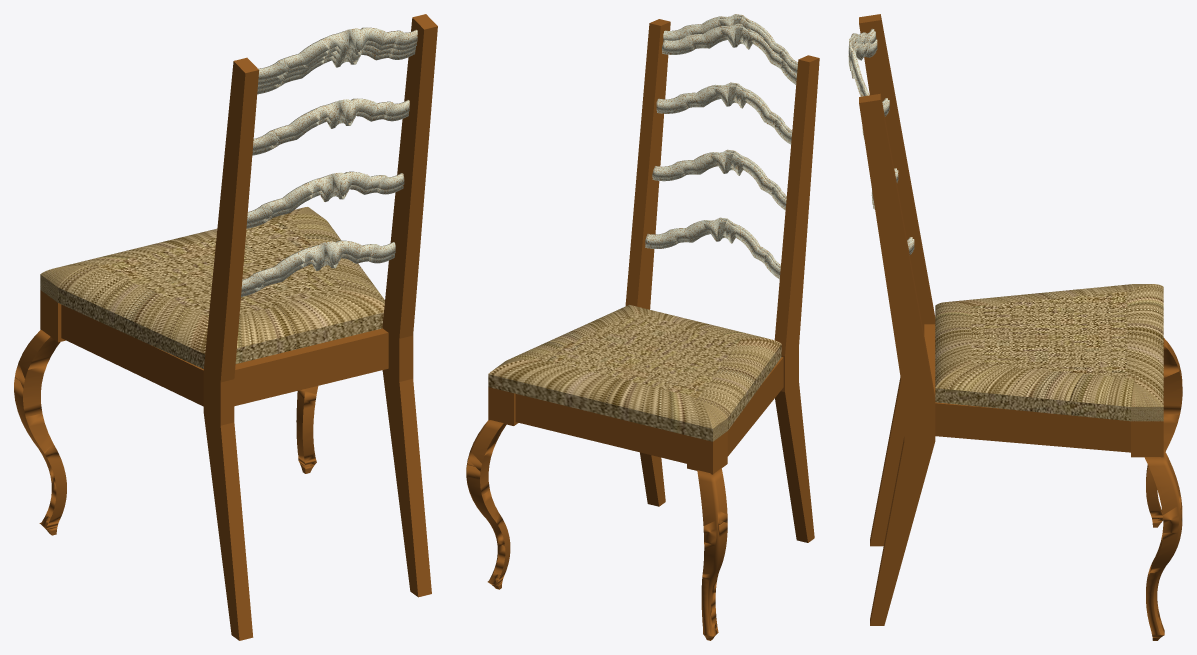
3 renders of one model, left to right at view 1: azimuth 30°, elevation 25°; view 2: azimuth 150°, elevation 25°; view 3: azimuth 270°, elevation 25°, orthographic. The views are drawn at different scales.
Parts seen in each view (by area): view 1: mesh13_mesh13-geometry, mesh1_mesh1-geometry, mesh12_mesh12-geometry, mesh9_mesh9-geometry, mesh7_mesh7-geometry, mesh5_mesh5-geometry, mesh3_mesh3-geometry, mesh11_mesh11-geometry, mesh4_mesh4-geometry, mesh6_mesh6-geometry, mesh10_mesh10-geometry, mesh2_mesh2-geometry (+1 smaller); view 2: mesh13_mesh13-geometry, mesh1_mesh1-geometry, mesh12_mesh12-geometry, mesh6_mesh6-geometry, mesh2_mesh2-geometry, mesh10_mesh10-geometry, mesh4_mesh4-geometry, mesh8_mesh8-geometry, mesh7_mesh7-geometry; view 3: mesh13_mesh13-geometry, mesh1_mesh1-geometry, mesh12_mesh12-geometry, mesh9_mesh9-geometry.
Part boxes in pixels (bbox=[...]): mesh13_mesh13-geometry: bbox=[40, 14, 437, 640]; mesh1_mesh1-geometry: bbox=[40, 207, 384, 368]; mesh12_mesh12-geometry: bbox=[14, 330, 318, 535]; mesh9_mesh9-geometry: bbox=[258, 27, 417, 80]; mesh7_mesh7-geometry: bbox=[252, 98, 409, 150]; mesh5_mesh5-geometry: bbox=[247, 171, 404, 224]; mesh3_mesh3-geometry: bbox=[241, 240, 395, 292]; mesh11_mesh11-geometry: bbox=[257, 45, 415, 89]; mesh4_mesh4-geometry: bbox=[246, 184, 403, 228]; mesh6_mesh6-geometry: bbox=[252, 111, 408, 155]; mesh10_mesh10-geometry: bbox=[257, 50, 415, 94]; mesh2_mesh2-geometry: bbox=[241, 253, 394, 296]; mesh13_mesh13-geometry: bbox=[488, 19, 819, 542]; mesh1_mesh1-geometry: bbox=[488, 304, 781, 441]; mesh12_mesh12-geometry: bbox=[466, 420, 727, 640]; mesh6_mesh6-geometry: bbox=[656, 85, 791, 144]; mesh2_mesh2-geometry: bbox=[645, 220, 780, 278]; mesh10_mesh10-geometry: bbox=[662, 26, 796, 84]; mesh4_mesh4-geometry: bbox=[652, 152, 786, 210]; mesh8_mesh8-geometry: bbox=[663, 16, 797, 73]; mesh7_mesh7-geometry: bbox=[657, 82, 792, 133]; mesh13_mesh13-geometry: bbox=[859, 14, 1163, 625]; mesh1_mesh1-geometry: bbox=[935, 284, 1163, 421]; mesh12_mesh12-geometry: bbox=[1144, 338, 1182, 640]; mesh9_mesh9-geometry: bbox=[848, 28, 874, 96].
Bounding box in the file's own units: 0.3793 × 0.709 × 0.3939.
5 materials, 3 textured.
